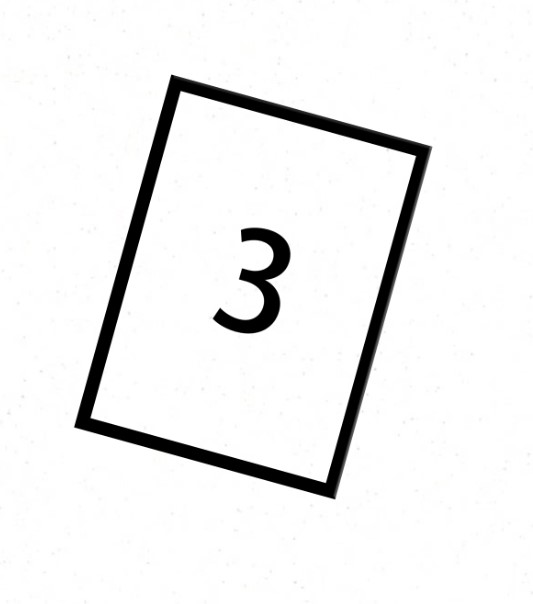three: (196, 168, 313, 378)
